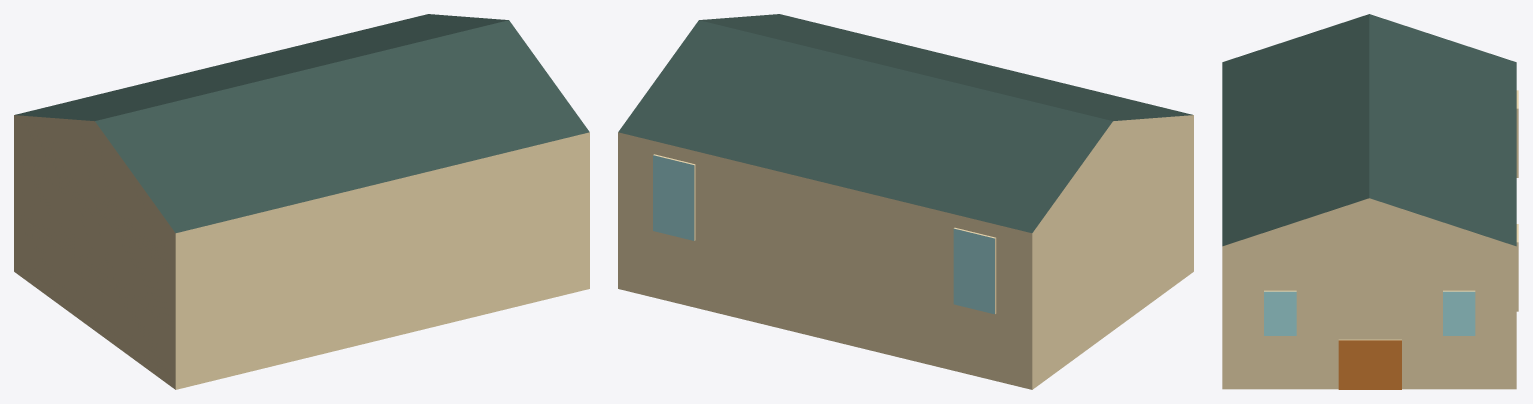
Rendered from Edificio_pieza_D_interior.fbx.
3 renders of one model, left to right at view 1: azimuth 30°, elevation 25°; view 2: azimuth 150°, elevation 25°; view 3: azimuth 270°, elevation 25°, orthographic. The views are drawn at different scales.
Parts seen in each view (by area): view 1: Edificio_pieza_D_interior; view 2: Edificio_pieza_D_interior; view 3: Edificio_pieza_D_interior.
Boxes of the visible parts, x1,y1,x2,y2 form: Edificio_pieza_D_interior: (14, 14, 589, 389); Edificio_pieza_D_interior: (618, 14, 1193, 389); Edificio_pieza_D_interior: (1222, 14, 1518, 389).
Bounding box in the file's own units: 3397 × 1634 × 2300.
